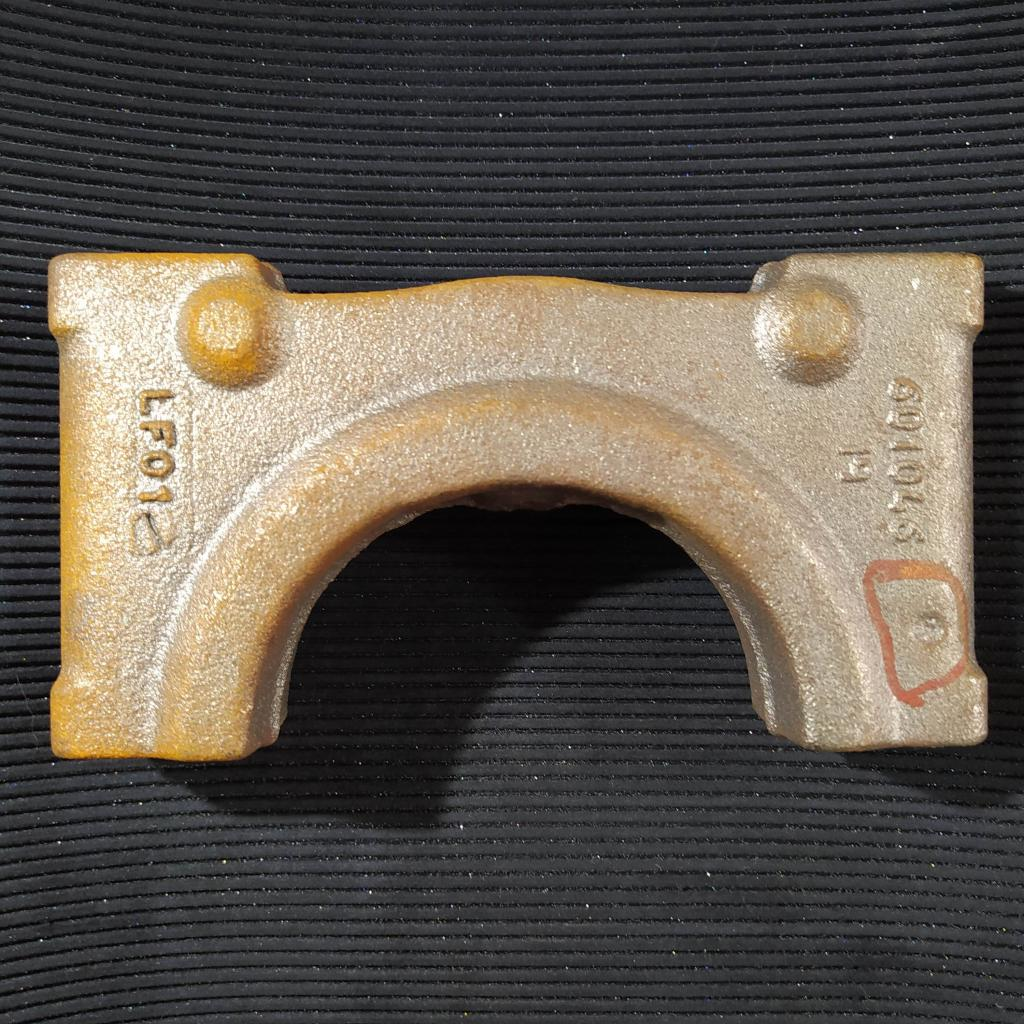buraco: (911, 608, 954, 652)
